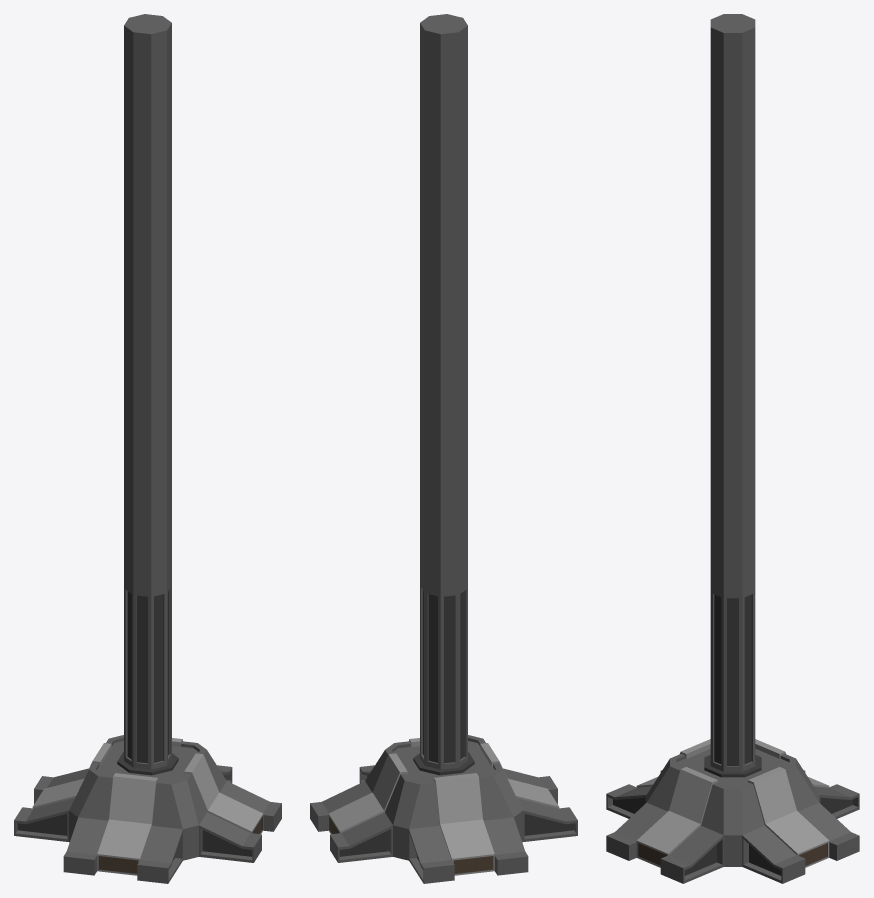
The model's file is Signboard_Support_05.FBX.
3 views of the same model, side by side, from view 1: azimuth 30°, elevation 25°; view 2: azimuth 150°, elevation 25°; view 3: azimuth 270°, elevation 25° (orthographic).
Parts seen in each view (by area): view 1: Signboard_Support_05_Base_LOD0, Signboard_Support_05_Top; view 2: Signboard_Support_05_Base_LOD0, Signboard_Support_05_Top; view 3: Signboard_Support_05_Base_LOD0, Signboard_Support_05_Top.
Part boxes in pixels (x1=…): Signboard_Support_05_Base_LOD0: x1=14, y1=581, x2=281, y2=883; Signboard_Support_05_Top: x1=124, y1=14, x2=171, y2=591; Signboard_Support_05_Base_LOD0: x1=310, y1=581, x2=577, y2=883; Signboard_Support_05_Top: x1=420, y1=14, x2=467, y2=591; Signboard_Support_05_Base_LOD0: x1=606, y1=588, x2=859, y2=883; Signboard_Support_05_Top: x1=710, y1=14, x2=755, y2=593.
Size of what is drawn, in the model's own units: 98.35 by 346 by 98.35.
